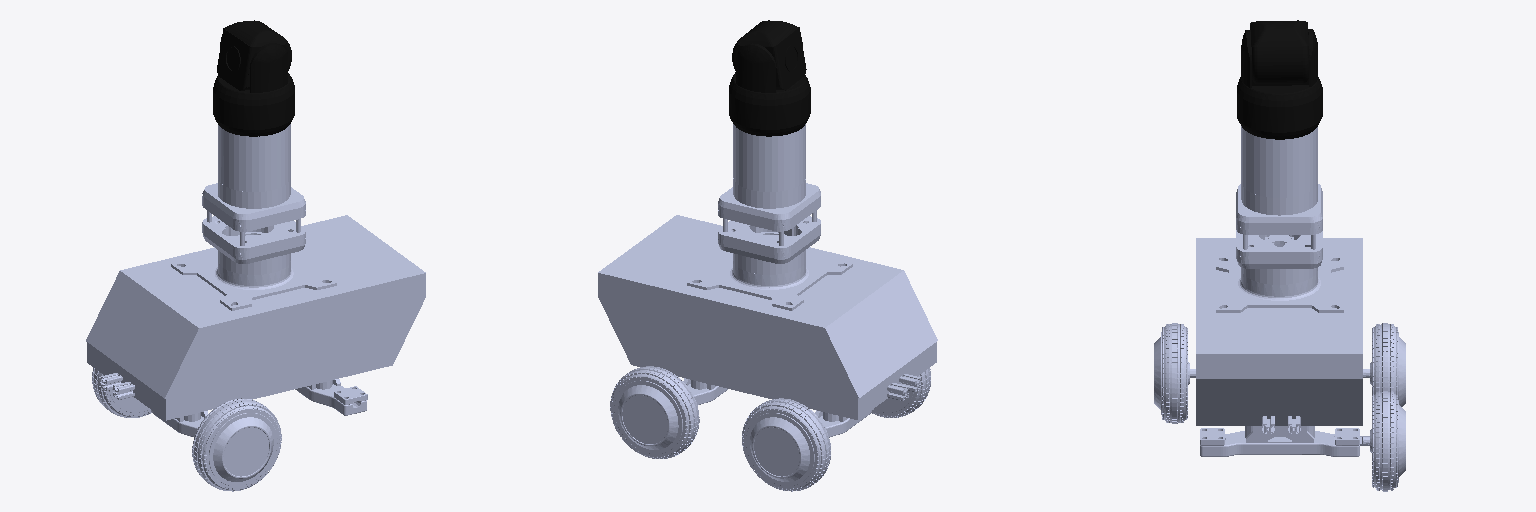
The robot description file, URDF, robot "robotic_rover":
<?xml version="1.0" encoding="utf-8"?>
<!-- This URDF was automatically created by SolidWorks to URDF Exporter! Originally created by [author] ([email redacted]) 
     Commit Version: 1.5.1-0-g916b5db  Build Version: 1.5.7152.31018
     For more information, please see http://wiki.ros.org/sw_urdf_exporter -->
<robot
  name="robotic_rover">
  <link
    name="base_link">
    <inertial>
      <origin
        xyz="-0.00288018614203336 0.000211924547677017 -0.0766636799264719"
        rpy="0 0 0" />
      <mass
        value="3.71042030200522" />
      <inertia
        ixx="0.0920191810097629"
        ixy="1.58972329736214E-05"
        ixz="-0.00397569722051905"
        iyy="0.121530514331288"
        iyz="0.000126348365020198"
        izz="0.0630880808273991" />
    </inertial>
    <visual>
      <origin
        xyz="0 0 0"
        rpy="0 0 0" />
      <geometry>
        <mesh
          filename="package://robotic_rover/meshes/base_link.STL" />
      </geometry>
      <material
        name="">
        <color
          rgba="0.792156862745098 0.819607843137255 0.933333333333333 1" />
      </material>
    </visual>
    <collision>
      <origin
        xyz="0 0 0"
        rpy="0 0 0" />
      <geometry>
        <mesh
          filename="package://robotic_rover/meshes/base_link.STL" />
      </geometry>
    </collision>
  </link>
  <link
    name="FL_link">
    <inertial>
      <origin
        xyz="5.69600275235338E-06 0.0317356327821489 -4.14269968390668E-06"
        rpy="0 0 0" />
      <mass
        value="0.327820252904825" />
      <inertia
        ixx="0.00076693913987317"
        ixy="-1.07758994727015E-07"
        ixz="-8.35705243353546E-09"
        iyy="0.00136217378112651"
        iyz="7.83721329039584E-08"
        izz="0.000766933727696302" />
    </inertial>
    <visual>
      <origin
        xyz="0 0 0"
        rpy="0 0 0" />
      <geometry>
        <mesh
          filename="package://robotic_rover/meshes/FL_link.STL" />
      </geometry>
      <material
        name="">
        <color
          rgba="0.792156862745098 0.819607843137255 0.933333333333333 1" />
      </material>
    </visual>
    <collision>
      <origin
        xyz="0 0 0"
        rpy="0 0 0" />
      <geometry>
        <mesh
          filename="package://robotic_rover/meshes/FL_link.STL" />
      </geometry>
    </collision>
  </link>
  <joint
    name="FL_joint"
    type="continuous">
    <origin
      xyz="-0.12743 -0.19546 -0.255"
      rpy="0 0 0" />
    <parent
      link="base_link" />
    <child
      link="FL_link" />
    <axis
      xyz="0 -1 0" />
    <limit
      effort="1"
      velocity="1" />
  </joint>
  <link
    name="FR_link">
    <inertial>
      <origin
        xyz="-6.20341563517535E-06 -0.0317356327821492 -3.33527247703413E-06"
        rpy="0 0 0" />
      <mass
        value="0.327820252904845" />
      <inertia
        ixx="0.000766941278267077"
        ixy="-1.17358286121129E-07"
        ixz="7.32763476252277E-09"
        iyy="0.00136217378112658"
        iyz="-6.30969479207548E-08"
        izz="0.000766931589302465" />
    </inertial>
    <visual>
      <origin
        xyz="0 0 0"
        rpy="0 0 0" />
      <geometry>
        <mesh
          filename="package://robotic_rover/meshes/FR_link.STL" />
      </geometry>
      <material
        name="">
        <color
          rgba="0.792156862745098 0.819607843137255 0.933333333333333 1" />
      </material>
    </visual>
    <collision>
      <origin
        xyz="0 0 0"
        rpy="0 0 0" />
      <geometry>
        <mesh
          filename="package://robotic_rover/meshes/FR_link.STL" />
      </geometry>
    </collision>
  </link>
  <joint
    name="FR_joint"
    type="continuous">
    <origin
      xyz="-0.12743 0.19654 -0.255"
      rpy="0 0 0" />
    <parent
      link="base_link" />
    <child
      link="FR_link" />
    <axis
      xyz="0 -1 0" />
    <limit
      effort="1"
      velocity="1" />
  </joint>
  <link
    name="RL_link">
    <inertial>
      <origin
        xyz="5.69600275165949E-06 0.0317356327821492 -4.14269968379566E-06"
        rpy="0 0 0" />
      <mass
        value="0.327820252904825" />
      <inertia
        ixx="0.000766939139873175"
        ixy="-1.07758994727555E-07"
        ixz="-8.35705243455978E-09"
        iyy="0.00136217378112651"
        iyz="7.83721329054811E-08"
        izz="0.000766933727696295" />
    </inertial>
    <visual>
      <origin
        xyz="0 0 0"
        rpy="0 0 0" />
      <geometry>
        <mesh
          filename="package://robotic_rover/meshes/RL_link.STL" />
      </geometry>
      <material
        name="">
        <color
          rgba="0.792156862745098 0.819607843137255 0.933333333333333 1" />
      </material>
    </visual>
    <collision>
      <origin
        xyz="0 0 0"
        rpy="0 0 0" />
      <geometry>
        <mesh
          filename="package://robotic_rover/meshes/RL_link.STL" />
      </geometry>
    </collision>
  </link>
  <joint
    name="RL_joint"
    type="continuous">
    <origin
      xyz="0.12257 -0.19546 -0.255"
      rpy="0 0 0" />
    <parent
      link="base_link" />
    <child
      link="RL_link" />
    <axis
      xyz="0 -1 0" />
    <limit
      effort="1"
      velocity="1" />
  </joint>
  <link
    name="RR_link">
    <inertial>
      <origin
        xyz="-5.69600275249216E-06 -0.0317356327821493 -4.14269968612713E-06"
        rpy="0 0 0" />
      <mass
        value="0.327820252904821" />
      <inertia
        ixx="0.000766939139873145"
        ixy="-1.07758994732913E-07"
        ixz="8.35705242918811E-09"
        iyy="0.00136217378112649"
        iyz="-7.83721329047717E-08"
        izz="0.000766933727696311" />
    </inertial>
    <visual>
      <origin
        xyz="0 0 0"
        rpy="0 0 0" />
      <geometry>
        <mesh
          filename="package://robotic_rover/meshes/RR_link.STL" />
      </geometry>
      <material
        name="">
        <color
          rgba="0.792156862745098 0.819607843137255 0.933333333333333 1" />
      </material>
    </visual>
    <collision>
      <origin
        xyz="0 0 0"
        rpy="0 0 0" />
      <geometry>
        <mesh
          filename="package://robotic_rover/meshes/RR_link.STL" />
      </geometry>
    </collision>
  </link>
  <joint
    name="RR_joint"
    type="continuous">
    <origin
      xyz="0.12257 0.19654 -0.255"
      rpy="0 0 0" />
    <parent
      link="base_link" />
    <child
      link="RR_link" />
    <axis
      xyz="0 -1 0" />
    <limit
      effort="1"
      velocity="1" />
  </joint>
  <link
    name="PC_link">
    <inertial>
      <origin
        xyz="-2.40083518093792E-07 6.17701556571149E-09 0.00253639107192796"
        rpy="0 0 0" />
      <mass
        value="1.36978307966779" />
      <inertia
        ixx="0.00325430234447903"
        ixy="8.99100011542789E-06"
        ixz="-1.14319568884003E-07"
        iyy="0.00298770675047518"
        iyz="-5.73772205150559E-09"
        izz="0.00294673228376205" />
    </inertial>
    <visual>
      <origin
        xyz="0 0 0"
        rpy="0 0 0" />
      <geometry>
        <mesh
          filename="package://robotic_rover/meshes/PC_link.STL" />
      </geometry>
      <material
        name="">
        <color
          rgba="0.101960784313725 0.101960784313725 0.101960784313725 1" />
      </material>
    </visual>
    <collision>
      <origin
        xyz="0 0 0"
        rpy="0 0 0" />
      <geometry>
        <mesh
          filename="package://robotic_rover/meshes/PC_link.STL" />
      </geometry>
    </collision>
  </link>
  <joint
    name="PC_joint"
    type="continuous">
    <origin
      xyz="0 0 0.27315"
      rpy="0 0 0" />
    <parent
      link="base_link" />
    <child
      link="PC_link" />
    <axis
      xyz="0 0 -1" />
    <limit
      effort="1"
      velocity="0.5" />
    <dynamics
      friction="0.1" />
  </joint>
  <link
    name="TC_link">
    <inertial>
      <origin
        xyz="-0.000470045088241361 0.0450097916874978 -0.00221961139514565"
        rpy="0 0 0" />
      <mass
        value="0.669752936652558" />
      <inertia
        ixx="0.00085393278364478"
        ixy="1.25962044388134E-06"
        ixz="-3.31682759107273E-05"
        iyy="0.000816893642756303"
        iyz="-1.13569368206208E-06"
        izz="0.000818648983044741" />
    </inertial>
    <visual>
      <origin
        xyz="0 0 0"
        rpy="0 0 0" />
      <geometry>
        <mesh
          filename="package://robotic_rover/meshes/TC_link.STL" />
      </geometry>
      <material
        name="">
        <color
          rgba="0.101960784313725 0.101960784313725 0.101960784313725 1" />
      </material>
    </visual>
    <collision>
      <origin
        xyz="0 0 0"
        rpy="0 0 0" />
      <geometry>
        <mesh
          filename="package://robotic_rover/meshes/TC_link.STL" />
      </geometry>
    </collision>
  </link>
  <joint
    name="TC_joint"
    type="continuous">
    <origin
      xyz="0.001518 -0.044974 0.084851"
      rpy="0 0 0" />
    <parent
      link="PC_link" />
    <child
      link="TC_link" />
    <axis
      xyz="0.033733 -0.99943 0" />
    <limit
      effort="1"
      velocity="0.5" />
    <dynamics
      friction="0.1" />
  </joint>

  <gazebo>
    <plugin name="skid_steer_drive_controller" filename="libgazebo_ros_skid_steer_drive.so">
      <updateRate>100.0</updateRate>
      <robotNamespace>/</robotNamespace>
      <leftFrontJoint>FL_joint</leftFrontJoint>
      <rightFrontJoint>FR_joint</rightFrontJoint>
      <leftRearJoint>RL_joint</leftRearJoint>
      <rightRearJoint>RR_joint</rightRearJoint>
      <wheelSeparation>0.3</wheelSeparation>
      <wheelDiameter>0.15</wheelDiameter>
      <robotBaseFrame>base_link</robotBaseFrame>
      <torque>20</torque>
      <commandTopic>cmd_vel</commandTopic>
      <broadcastTF>true</broadcastTF>
      <odometryTopic>odom</odometryTopic>
      <odometryFrame>odom</odometryFrame>
      <covariance_x>0.001</covariance_x> <!-- 0.0001 -->
      <covariance_y>0.001</covariance_y> <!-- 0.0001 -->
      <covariance_yaw>0.01</covariance_yaw> <!-- 0.01 -->
    </plugin>
  </gazebo>

  <!-- IMU -->

  <joint name="imu_joint" type="fixed">
    <parent link="base_link"/>
    <child link="imu_link"/>
    <origin xyz="0 0 0" rpy="0 0 0"/>
  </joint>

  <link name="imu_link"/>
  
  <gazebo reference="imu_link">
    <sensor type="imu" name="imu">
      <always_on>true</always_on>
      <visualize>true</visualize>
    </sensor>
    <material>Gazebo/FlatBlack</material>
  </gazebo>

  <gazebo>
    <plugin name="imu_plugin" filename="libgazebo_ros_imu.so">
      <alwaysOn>true</alwaysOn>
      <bodyName>imu_link</bodyName>
      <frameName>imu_link</frameName>
      <topicName>imu</topicName>
      <serviceName>imu_service</serviceName>
      <gaussianNoise>0.0</gaussianNoise>
      <updateRate>0</updateRate>
      <imu>
        <noise>
          <type>gaussian</type>
          <rate>
            <mean>0.0</mean>
            <stddev>2e-4</stddev>
            <bias_mean>0.0000075</bias_mean>
            <bias_stddev>0.0000008</bias_stddev>
          </rate>
          <accel>
            <mean>0.0</mean>
            <stddev>1.7e-2</stddev>
            <bias_mean>0.1</bias_mean>
            <bias_stddev>0.001</bias_stddev>
          </accel>
        </noise>
      </imu>
    </plugin>
  </gazebo>

  <!-- Lidar -->
  <link name="base_scan">
    <visual>
      <origin xyz="0 0 0.0" rpy="0 0 0"/>
      <geometry>
        <mesh filename="package://turtlebot3_description/meshes/sensors/lds.stl" scale="0.001 0.001 0.001"/>
      </geometry>
      <material name="dark"/>
    </visual>

    <collision>
      <origin xyz="0.015 0 -0.0065" rpy="0 0 0"/>
      <geometry>
        <cylinder length="0.0315" radius="0.055"/>
      </geometry>
    </collision>

    <inertial>
      <mass value="0.114" />
      <origin xyz="0 0 0" />
      <inertia ixx="0.001" ixy="0.0" ixz="0.0"
               iyy="0.001" iyz="0.0"
               izz="0.001" />
    </inertial>
  </link>

  <joint name="scan_joint" type="fixed">
    <parent link="base_link"/>
    <child link="base_scan"/>
    <origin xyz="-0.012 0 0.052" rpy="0 0 0"/>
  </joint>

  <gazebo reference="base_scan">
    <material>Gazebo/FlatBlack</material>
    <sensor type="ray" name="lds_lfcd_sensor">
      <pose>0 0 0 0 0 0</pose>
      <visualize>false</visualize>
      <update_rate>5</update_rate>
      <ray>
        <scan>
          <horizontal>
            <samples>360</samples>
            <resolution>1</resolution>
            <min_angle>0.0</min_angle>
            <max_angle>6.28319</max_angle>
          </horizontal>
        </scan>
        <range>
          <min>0.120</min>
          <max>3.5</max>
          <resolution>0.015</resolution>
        </range>
        <noise>
          <type>gaussian</type>
          <mean>0.0</mean>
          <stddev>0.01</stddev>
        </noise>
      </ray>
      <plugin name="gazebo_ros_lds_lfcd_controller" filename="libgazebo_ros_laser.so">
        <topicName>scan</topicName>
        <frameName>base_scan</frameName>
      </plugin>
    </sensor>
  </gazebo>


  <!-- Camera -->
  <gazebo reference="TC_link">
    <material>Gazebo/Black</material>
  </gazebo>
 <gazebo reference="PC_link">
    <material>Gazebo/Black</material>
  </gazebo>


  <!-- Wheels -->
  <gazebo reference="FL_link">
    <material>Gazebo/DarkGrey</material>
  </gazebo>
  <gazebo reference="FR_link">
    <material>Gazebo/DarkGrey</material>
  </gazebo>
  <gazebo reference="RL_link">
    <material>Gazebo/DarkGrey</material>
  </gazebo>
  <gazebo reference="RR_link">
    <material>Gazebo/DarkGrey</material>
  </gazebo>

  <!-- Main -->
  <gazebo reference="base_link">
    <material>Gazebo/White</material>
  </gazebo>


</robot>

--- Facts derived from the render (not from the file) ---
3 views of the same robot in one strip: view 1: azimuth 30°, elevation 25°; view 2: azimuth 150°, elevation 25°; view 3: azimuth 270°, elevation 25° (orthographic).
Robot: robotic_rover — 9 links, 8 joints (6 continuous, 2 fixed); root link base_link; default pose: every joint at zero.
Visible links, largest first — view 1: base_link, FL_link, PC_link, TC_link, FR_link; view 2: base_link, FR_link, RR_link, PC_link, TC_link, FL_link; view 3: base_link, PC_link, TC_link, RR_link, FL_link, FR_link.
Boxes of the visible links, left/top/right/bottom form: base_link: left=86, top=124, right=425, bottom=436; FL_link: left=192, top=398, right=281, bottom=491; PC_link: left=213, top=22, right=294, bottom=136; TC_link: left=217, top=20, right=291, bottom=90; FR_link: left=92, top=368, right=151, bottom=417; base_link: left=598, top=124, right=937, bottom=437; FR_link: left=742, top=398, right=830, bottom=491; RR_link: left=610, top=366, right=699, bottom=458; PC_link: left=729, top=21, right=810, bottom=136; TC_link: left=732, top=20, right=806, bottom=90; FL_link: left=872, top=368, right=930, bottom=417; base_link: left=1196, top=126, right=1362, bottom=456; PC_link: left=1237, top=29, right=1322, bottom=139; TC_link: left=1250, top=20, right=1308, bottom=85; RR_link: left=1334, top=391, right=1405, bottom=491; FL_link: left=1154, top=323, right=1195, bottom=423; FR_link: left=1363, top=323, right=1405, bottom=406.
Bounding box of the posed robot: 0.5235 × 0.394 × 0.7419 m (x, y, z).
6 mesh visuals loaded from 8 distinct referenced files (6 binary STL); not drawn: 2 (reference not matched to a file when rendering).
